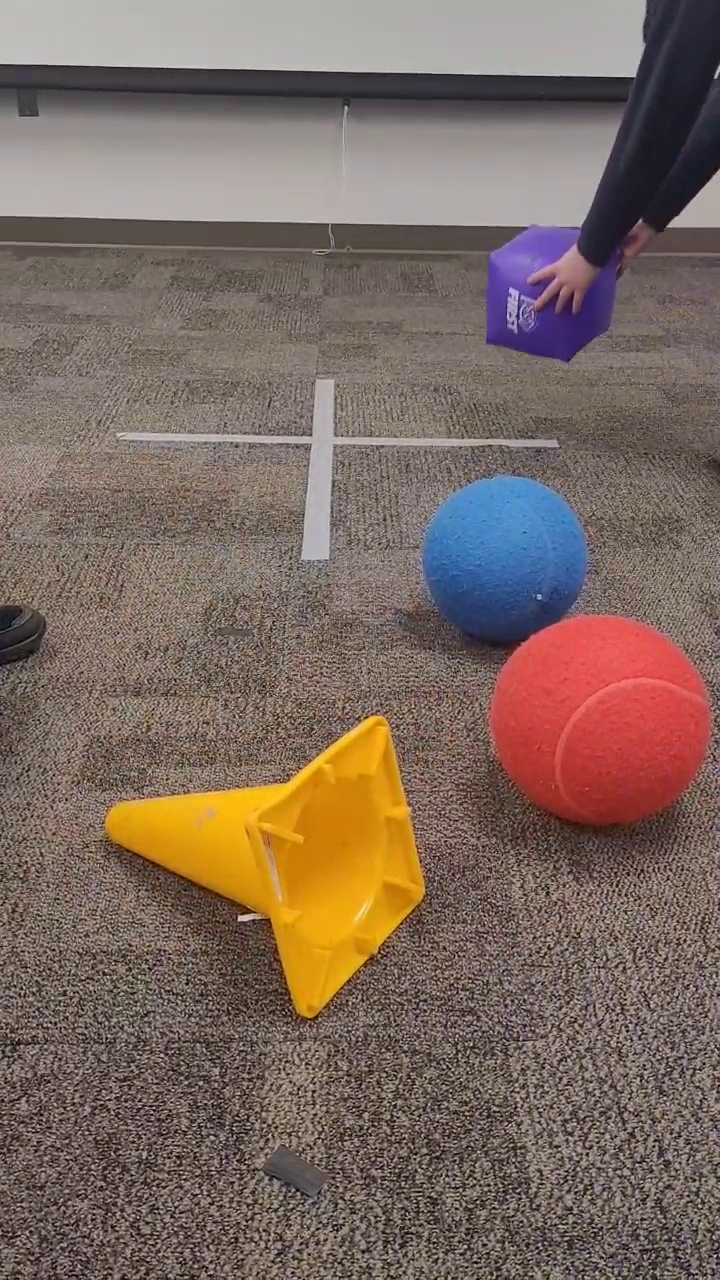ball: (488, 609, 712, 831), (421, 470, 590, 642)
cone: (99, 709, 432, 1023)
cube: (480, 223, 624, 367)
foot: (1, 596, 49, 671)
hand: (522, 240, 607, 321), (613, 203, 658, 270)
